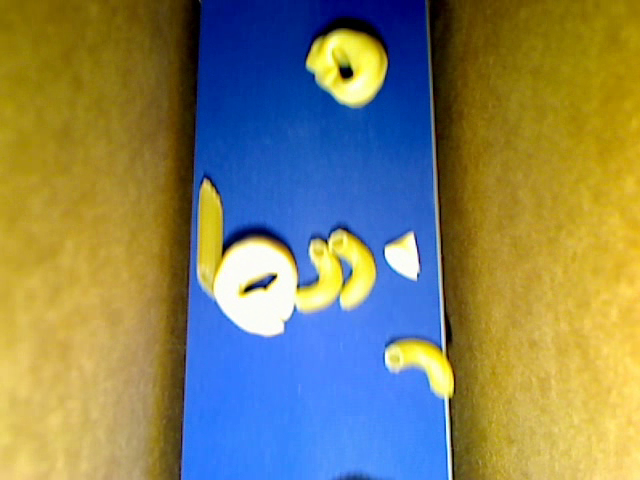elbow: (382, 338, 455, 397), (327, 228, 375, 311), (293, 238, 344, 314)
penne: (197, 176, 223, 300)
tortellini: (214, 237, 297, 337), (305, 31, 389, 111)
